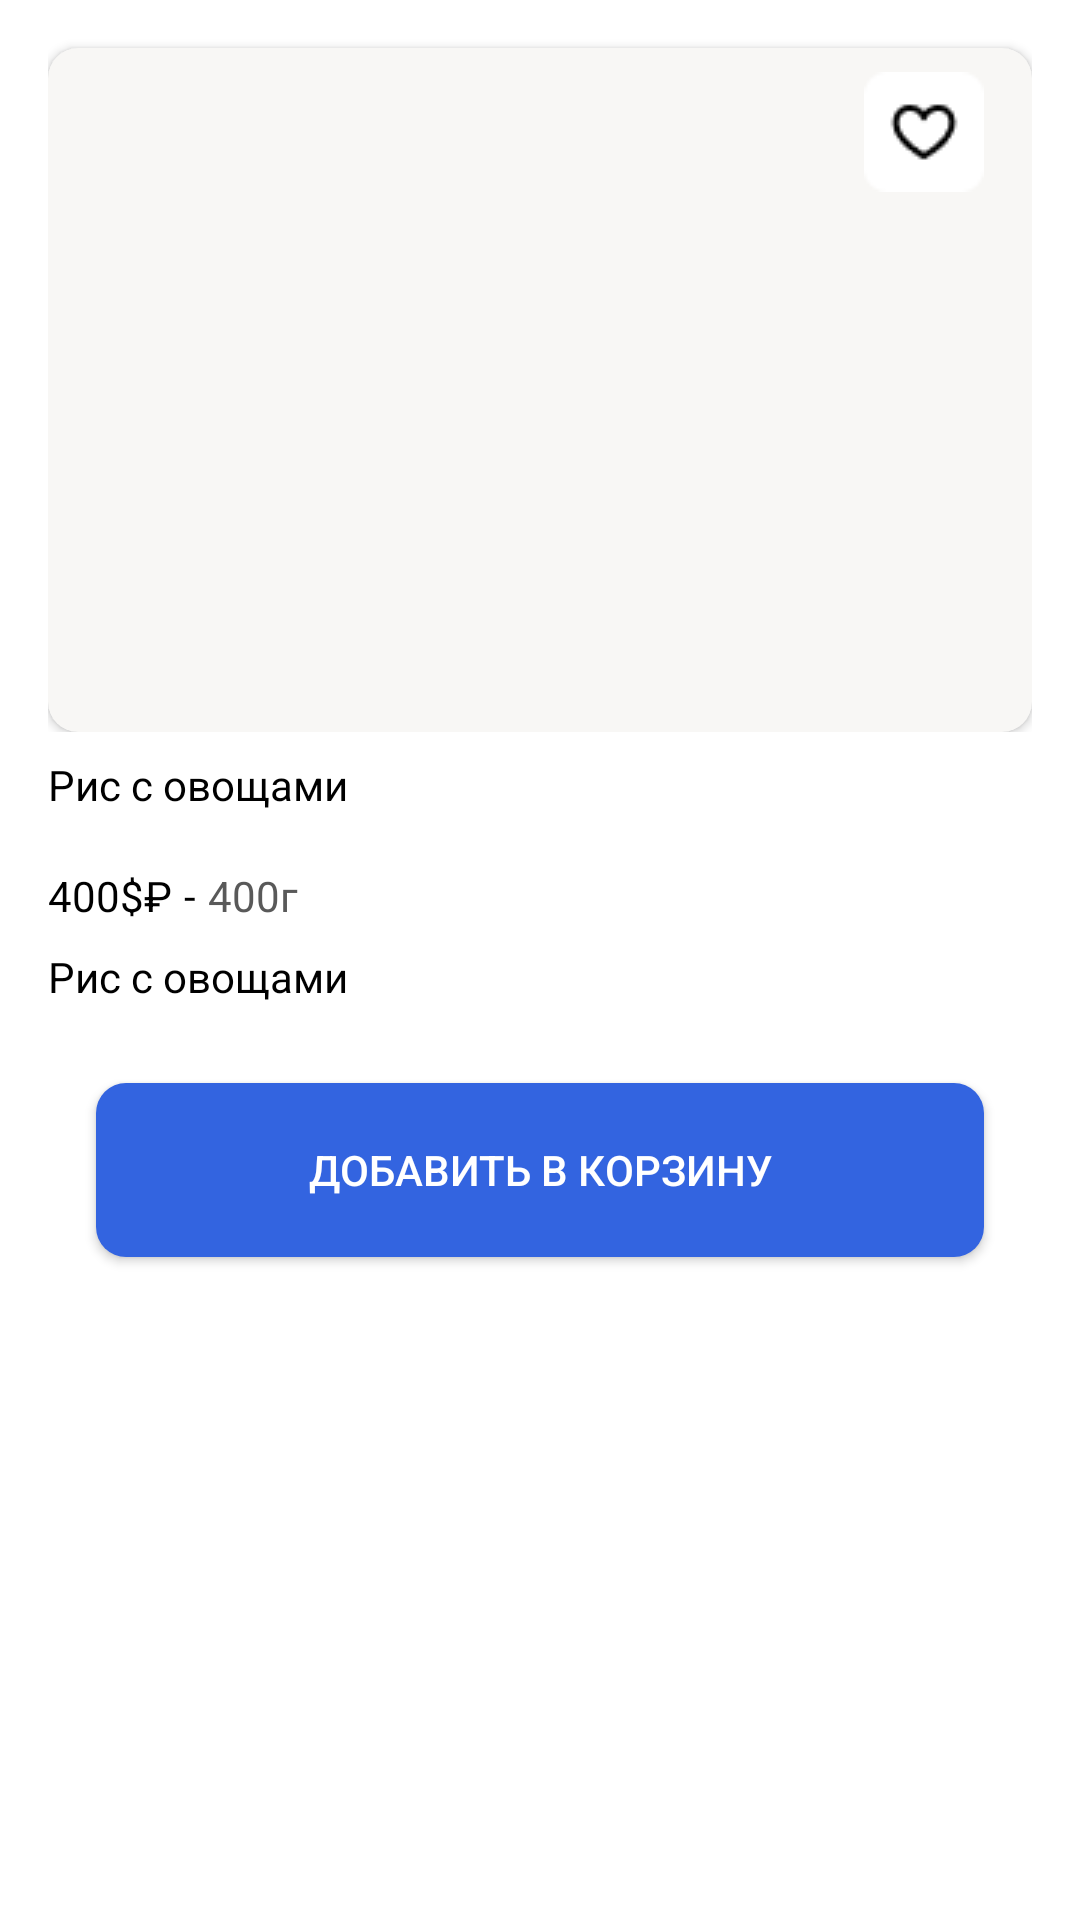

Icons on this 1080px x 1920px Android screen, each with the point to tap as (x=x, y=y):
favourite: (x=924, y=132)
